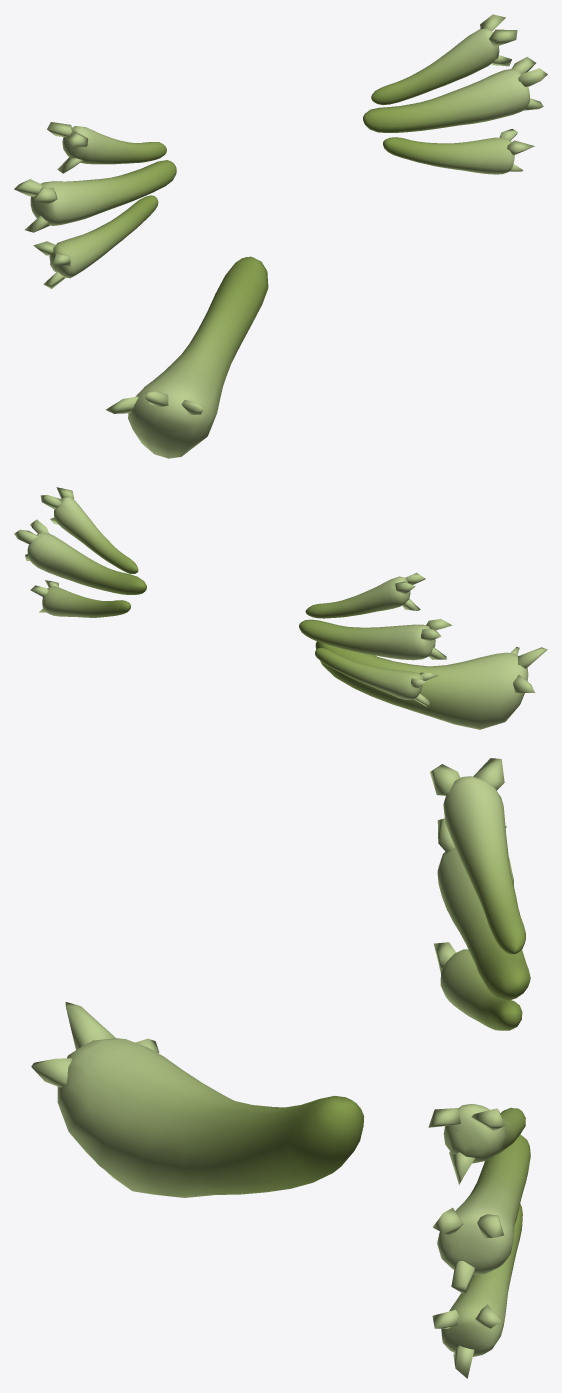
The model's file is potato_arms1.fbx.
3 renders of one model, top to bottom at view 1: azimuth 30°, elevation 25°; view 2: azimuth 150°, elevation 25°; view 3: azimuth 270°, elevation 25°, orthographic. The views are drawn at different scales.
Parts seen in each view (by area): view 1: arms3_nails_3rd_arm; view 2: arms3_nails_3rd_arm; view 3: arms3_nails_3rd_arm.
Boxes of the visible parts, x1,y1,x2,y2 form: arms3_nails_3rd_arm: (14,14,547,458); arms3_nails_3rd_arm: (14,487,547,729); arms3_nails_3rd_arm: (31,758,530,1378).
Size of the model in its own units: 3.68 by 1.7 by 1.82.
